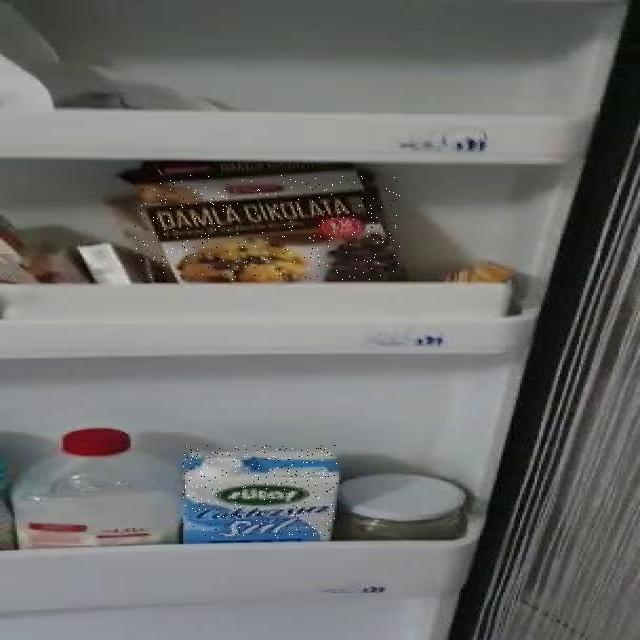chocolate chips: (133, 175, 401, 280)
milk: (183, 445, 337, 538)
